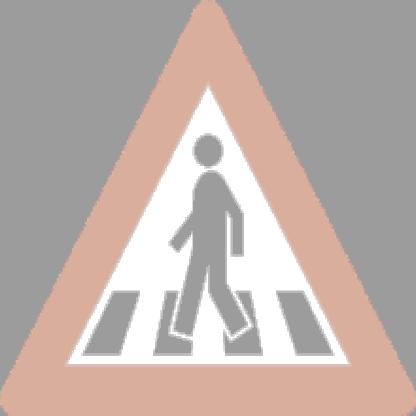Pedestrian Crossing: (33, 45, 383, 382)
